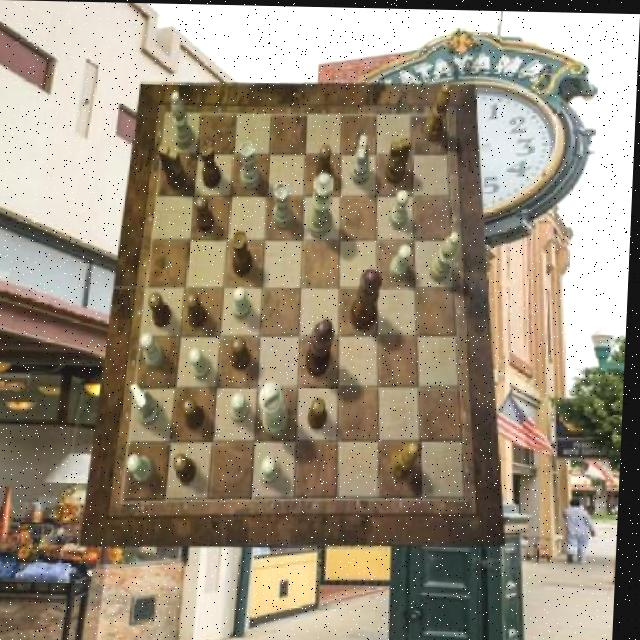bishop: (426, 80, 452, 140), (394, 439, 422, 478)
black-bishop: (309, 316, 338, 375)
black-king: (158, 144, 189, 190), (388, 136, 414, 184)
black-knight: (150, 292, 175, 327), (197, 194, 218, 232), (185, 397, 209, 430), (189, 289, 210, 326), (177, 452, 201, 484), (234, 335, 254, 369), (317, 143, 334, 183), (312, 396, 332, 429)
black-pawn: (353, 265, 386, 328)
black-queen: (200, 141, 224, 189), (234, 230, 256, 277)
black-rook: (432, 229, 462, 281), (170, 89, 196, 147)
white-bishop: (260, 380, 292, 435)
white-king: (133, 381, 164, 424), (352, 132, 373, 184)
white-knight: (144, 332, 168, 369), (191, 346, 216, 379), (131, 454, 159, 483), (392, 242, 414, 277), (391, 189, 410, 228), (235, 286, 254, 320), (233, 392, 253, 423), (263, 456, 284, 483)
white-pawn: (309, 170, 337, 236)
white-queen: (241, 142, 264, 189), (275, 180, 297, 227)
